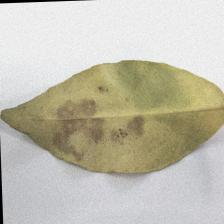black spot: (44, 99, 155, 155)
